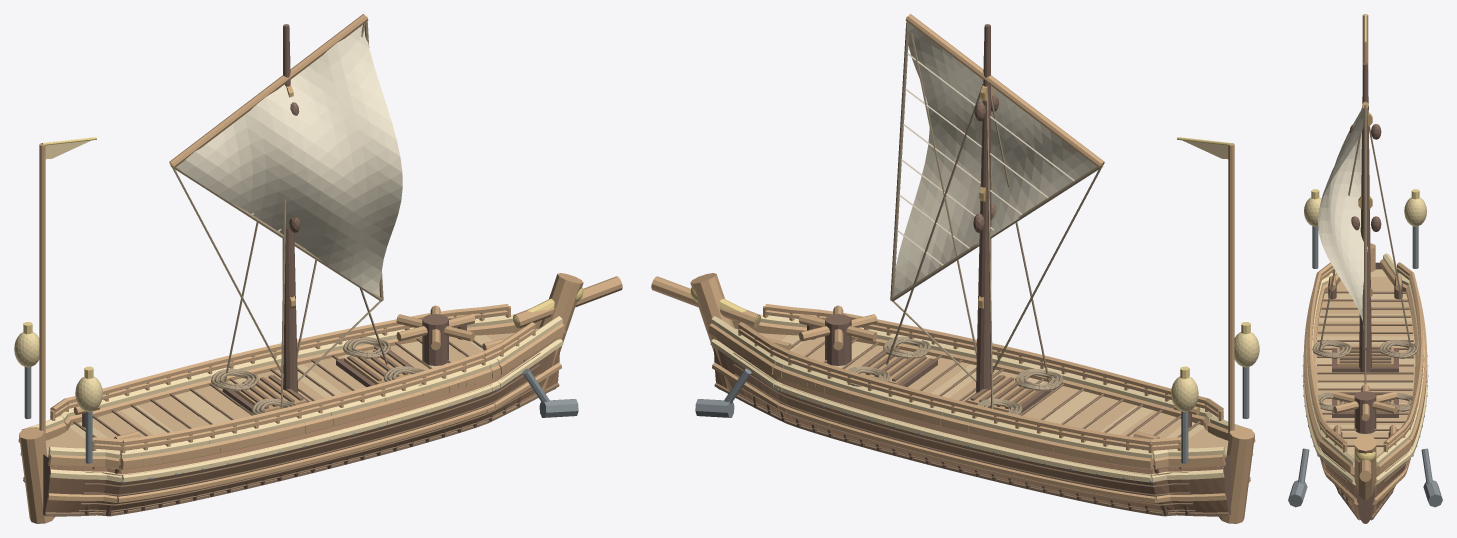
Rendered from mtepe-v5.glb.
The picture shows the model from 3 angles, left to right: view 1: azimuth 30°, elevation 25°; view 2: azimuth 150°, elevation 25°; view 3: azimuth 270°, elevation 25°; orthographic projection. The views are drawn at different scales.
Parts seen in each view (by area): view 1: mtepe_sails_sail, mtepe_hull_wood, mtepe_hull_pale, mtepe_railings_wood, mtepe_hull_seam, mtepe_hull_hull, mtepe_hull_hull2, mtepe_hull_deck, mtepe_fittings_wood, mtepe_masts_darkwood, mtepe_hull_decklight, mtepe_rigging_rope (+9 smaller); view 2: mtepe_sails_sail, mtepe_hull_wood, mtepe_hull_pale, mtepe_railings_wood, mtepe_hull_seam, mtepe_hull_hull, mtepe_hull_hull2, mtepe_hull_deck, mtepe_masts_darkwood, mtepe_rigging_rope, mtepe_fittings_wood, mtepe_hull_decklight (+11 smaller); view 3: mtepe_sails_sail, mtepe_hull_deck, mtepe_hull_wood, mtepe_hull_seam, mtepe_railings_wood, mtepe_hull_pale, mtepe_hull_decklight, mtepe_masts_darkwood, mtepe_fittings_darkwood, mtepe_fittings_iron, mtepe_fittings_wood, mtepe_fittings_rope (+9 smaller).
Part boxes in pixels (left/top/right/bottom): mtepe_sails_sail: left=177, top=25, right=402, bottom=296; mtepe_hull_wood: left=18, top=273, right=622, bottom=523; mtepe_hull_pale: left=20, top=314, right=563, bottom=482; mtepe_railings_wood: left=50, top=304, right=535, bottom=463; mtepe_hull_seam: left=44, top=338, right=559, bottom=516; mtepe_hull_hull: left=43, top=347, right=559, bottom=514; mtepe_hull_hull2: left=45, top=338, right=558, bottom=512; mtepe_hull_deck: left=45, top=332, right=514, bottom=449; mtepe_fittings_wood: left=73, top=305, right=506, bottom=439; mtepe_masts_darkwood: left=282, top=24, right=300, bottom=392; mtepe_hull_decklight: left=46, top=328, right=538, bottom=467; mtepe_rigging_rope: left=170, top=17, right=383, bottom=381; mtepe_sails_sail: left=894, top=21, right=1096, bottom=296; mtepe_hull_wood: left=651, top=273, right=1255, bottom=523; mtepe_hull_pale: left=710, top=314, right=1253, bottom=482; mtepe_railings_wood: left=738, top=304, right=1223, bottom=463; mtepe_hull_seam: left=714, top=338, right=1229, bottom=516; mtepe_hull_hull: left=714, top=347, right=1230, bottom=514; mtepe_hull_hull2: left=715, top=338, right=1228, bottom=512; mtepe_hull_deck: left=759, top=332, right=1228, bottom=449; mtepe_masts_darkwood: left=973, top=24, right=998, bottom=392; mtepe_rigging_rope: left=890, top=17, right=1103, bottom=381; mtepe_fittings_wood: left=767, top=305, right=1200, bottom=439; mtepe_hull_decklight: left=735, top=328, right=1227, bottom=467; mtepe_sails_sail: left=1317, top=107, right=1367, bottom=330; mtepe_hull_deck: left=1315, top=277, right=1415, bottom=457; mtepe_hull_wood: left=1304, top=243, right=1426, bottom=512; mtepe_hull_seam: left=1317, top=291, right=1413, bottom=520; mtepe_railings_wood: left=1307, top=262, right=1423, bottom=452; mtepe_hull_pale: left=1303, top=253, right=1427, bottom=485; mtepe_hull_decklight: left=1315, top=269, right=1415, bottom=454; mtepe_masts_darkwood: left=1349, top=63, right=1381, bottom=372; mtepe_fittings_darkwood: left=1328, top=283, right=1402, bottom=437; mtepe_fittings_iron: left=1288, top=226, right=1442, bottom=507; mtepe_fittings_wood: left=1329, top=275, right=1401, bottom=436; mtepe_fittings_rope: left=1312, top=339, right=1418, bottom=411.
Size of the model in its own units: 41.15 by 28.73 by 11.21.
